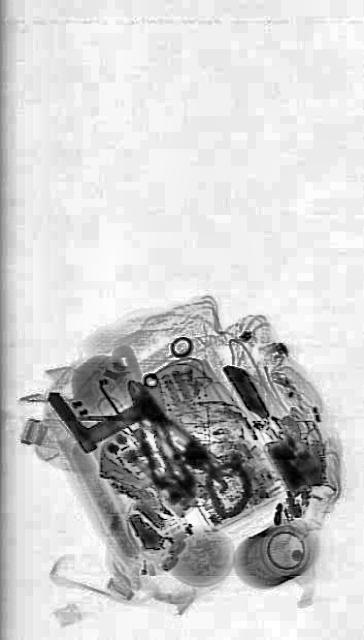Pliers: (116, 358, 211, 499)
Wrench: (138, 368, 182, 506)
